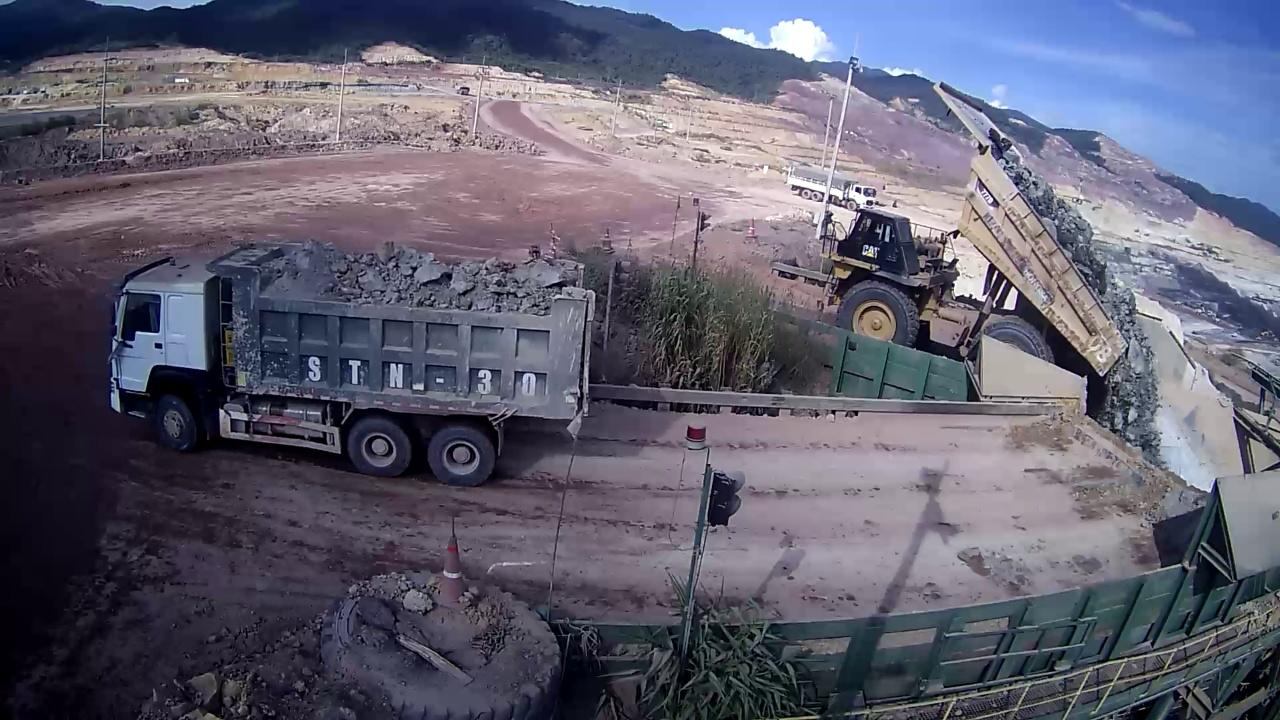company: (983, 222, 1061, 313)
dumping_soil: (804, 68, 1131, 386)
tail_number: (1082, 324, 1113, 369)
truck_size: (973, 179, 1002, 213)
